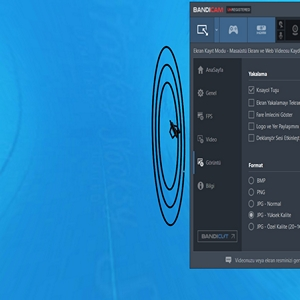circle: (143, 42, 188, 226)
submarine: (168, 119, 179, 139)
